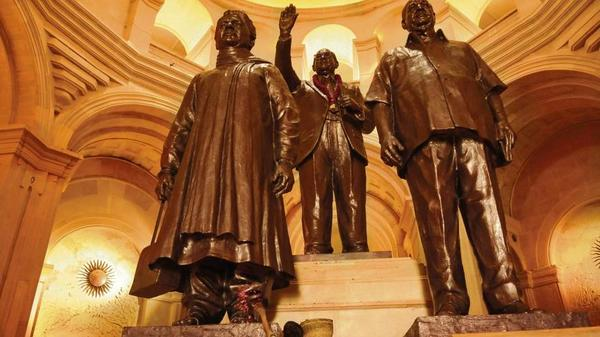person-like: (361, 1, 527, 320), (149, 6, 301, 330), (272, 3, 382, 255)
